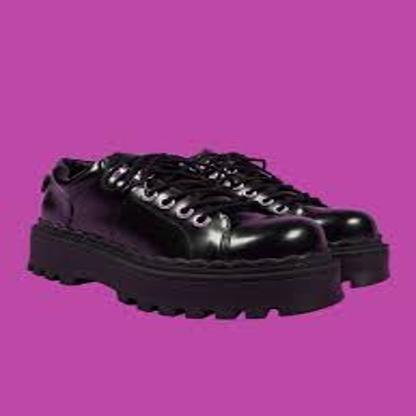not trash: (26, 152, 398, 322)
